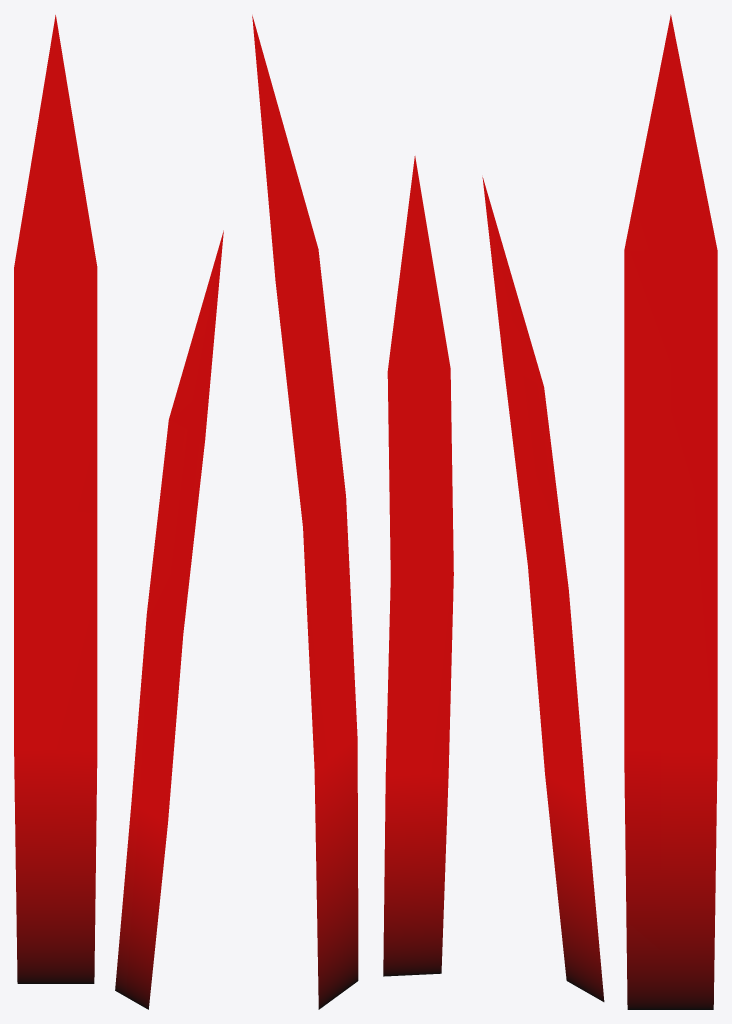
The model's file is Grass_LOD03.fbx.
The picture shows the model from 3 angles, left to right: view 1: azimuth 90°, elevation 25°; view 2: azimuth 150°, elevation 25°; view 3: azimuth 270°, elevation 25°; orthographic projection. The views are drawn at different scales.
Parts seen in each view (by area): view 1: Plane.014; view 2: Plane.014; view 3: Plane.014.
Part boxes in pixels (box(x1,y1,x2,y2)): Plane.014: box(14, 15, 223, 1009); Plane.014: box(252, 15, 453, 1009); Plane.014: box(482, 14, 717, 1009).
Size of the model in its own units: 0.1246 by 0.8092 by 0.1656.
